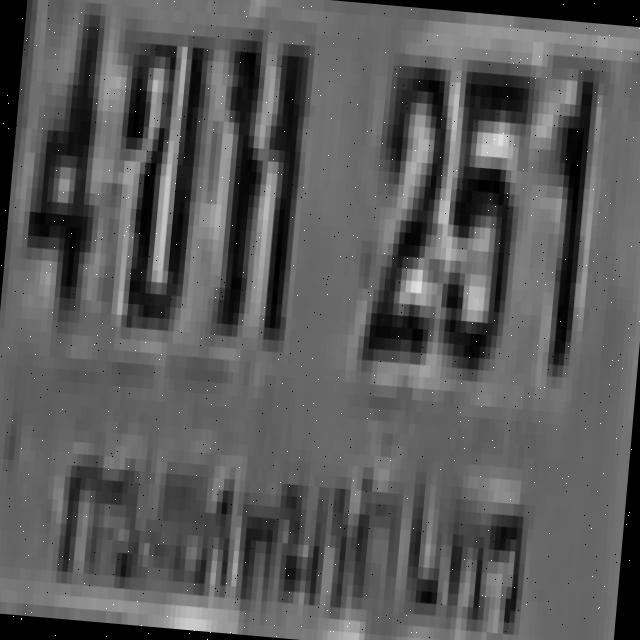1: (531, 56, 595, 366)
11KhorKhai: (100, 17, 210, 320)
2: (357, 40, 453, 353)
4: (16, 0, 107, 305)
5: (437, 47, 532, 360)
50HorHeep: (203, 27, 308, 328)
Bangkok: (34, 411, 543, 640)
